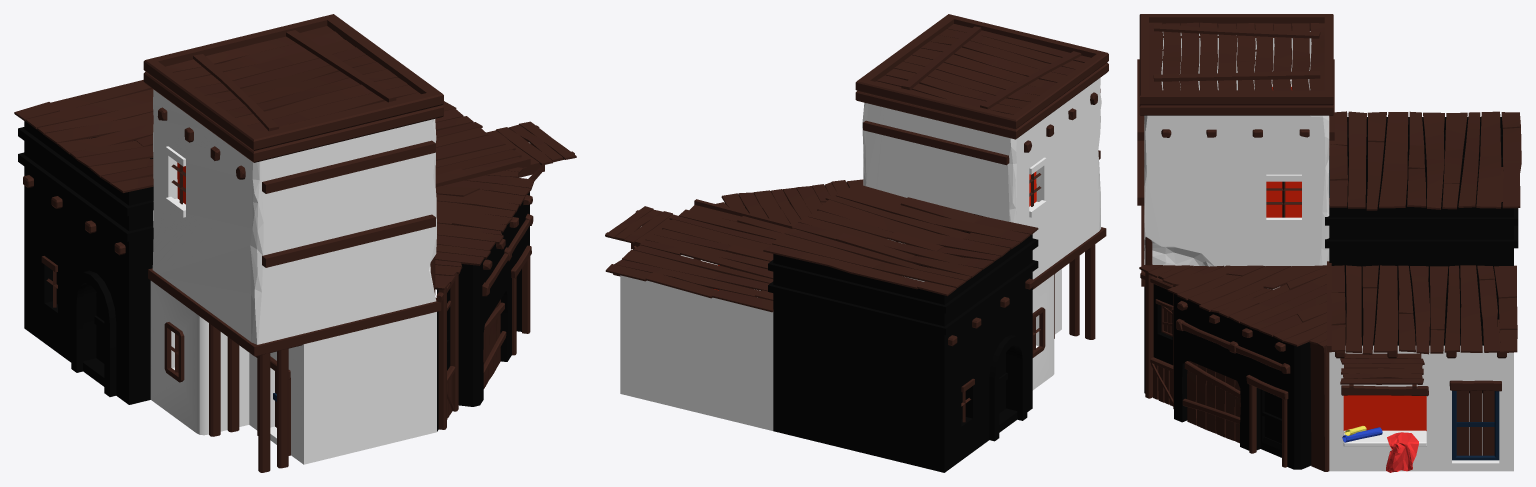
Rendered from civilian_house_16.FBX.
3 renders of one model, left to right at view 1: azimuth 30°, elevation 25°; view 2: azimuth 150°, elevation 25°; view 3: azimuth 270°, elevation 25°, orthographic. The views are drawn at different scales.
Visible parts, largest first — view 1: civilian_house_16; view 2: civilian_house_16; view 3: civilian_house_16.
Boxes of the visible parts, left/top/right/bottom form: civilian_house_16: left=14, top=14, right=576, bottom=472; civilian_house_16: left=605, top=14, right=1108, bottom=472; civilian_house_16: left=1137, top=14, right=1521, bottom=472.
Size of the model in its own units: 1281 by 898 by 1039.
